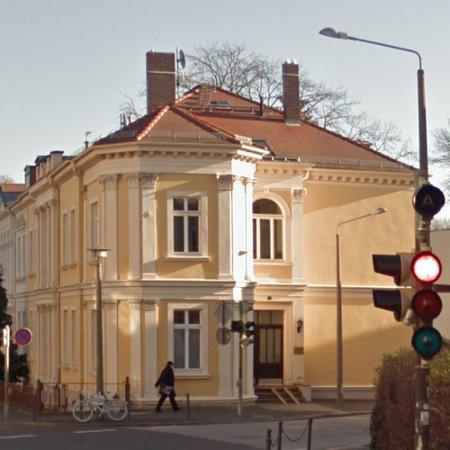chimneys: (146, 51, 176, 112), (283, 61, 302, 123)
